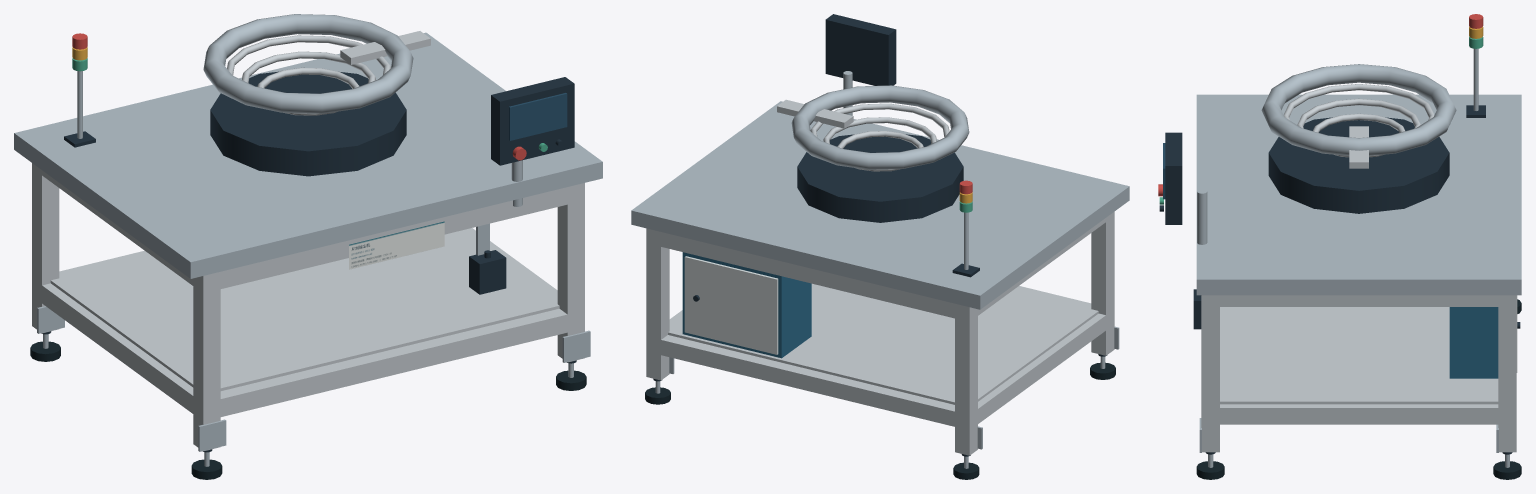
File: tablet-deduster-cell.glb
3 renders of one model, left to right at view 1: azimuth 30°, elevation 25°; view 2: azimuth 150°, elevation 25°; view 3: azimuth 270°, elevation 25°, orthographic. The views are drawn at different scales.
Visible parts, largest first — view 1: ClosedMachineBed_28, LowerShelf_29, BowlBase_48, SlottedExtrusion_22, BowlWall_49, SlottedExtrusion_23, SlottedExtrusion_8, SlottedExtrusion_24, ConsoleBack_34, SlottedExtrusion_18, SlottedExtrusion_3, OriginalNameplate_42 (+9 smaller); view 2: ClosedMachineBed_28, LowerShelf_29, BowlBase_48, BackDoor_31, SlottedExtrusion_20, BowlWall_49, SlottedExtrusion_21, ConsoleBack_34, SlottedExtrusion_3, Cabinet_30, SlottedExtrusion_13, SlottedExtrusion_24 (+6 smaller); view 3: ClosedMachineBed_28, LowerShelf_29, BowlBase_48, BowlWall_49, SlottedExtrusion_26, Cabinet_30, SlottedExtrusion_27, SlottedExtrusion_13, SlottedExtrusion_18, ConsoleBack_34, SpiralTrack_52, SpiralTrack_51 (+5 smaller).
Boxes of the visible parts, x1,y1,x2,y2 form: ClosedMachineBed_28: [14, 32, 602, 278]; LowerShelf_29: [50, 229, 559, 390]; BowlBase_48: [210, 71, 406, 176]; SlottedExtrusion_22: [212, 308, 567, 418]; BowlWall_49: [203, 14, 413, 113]; SlottedExtrusion_23: [212, 187, 567, 290]; SlottedExtrusion_8: [193, 272, 220, 451]; SlottedExtrusion_24: [37, 283, 198, 417]; ConsoleBack_34: [491, 77, 574, 165]; SlottedExtrusion_18: [557, 183, 584, 362]; SlottedExtrusion_3: [32, 163, 59, 333]; OriginalNameplate_42: [349, 221, 444, 269]; ClosedMachineBed_28: [631, 101, 1129, 309]; LowerShelf_29: [668, 283, 1098, 404]; BowlBase_48: [797, 134, 963, 222]; BackDoor_31: [684, 256, 778, 354]; SlottedExtrusion_20: [653, 335, 961, 428]; BowlWall_49: [791, 85, 969, 169]; SlottedExtrusion_21: [653, 230, 961, 319]; ConsoleBack_34: [825, 14, 896, 85]; SlottedExtrusion_3: [955, 304, 977, 455]; Cabinet_30: [682, 252, 811, 358]; SlottedExtrusion_13: [646, 228, 669, 380]; SlottedExtrusion_24: [978, 312, 1110, 423]; ClosedMachineBed_28: [1196, 94, 1521, 295]; LowerShelf_29: [1220, 307, 1498, 404]; BowlBase_48: [1268, 117, 1449, 213]; BowlWall_49: [1261, 64, 1456, 155]; SlottedExtrusion_26: [1210, 404, 1507, 424]; Cabinet_30: [1449, 307, 1498, 378]; SlottedExtrusion_27: [1210, 295, 1504, 306]; SlottedExtrusion_13: [1498, 295, 1516, 452]; SlottedExtrusion_18: [1201, 295, 1219, 452]; ConsoleBack_34: [1165, 132, 1182, 224]; SpiralTrack_52: [1284, 84, 1434, 120]; SpiralTrack_51: [1297, 98, 1420, 128].
Size of the model in its own units: 1.55 by 1.18 by 1.29.
11 materials, 1 textured.
